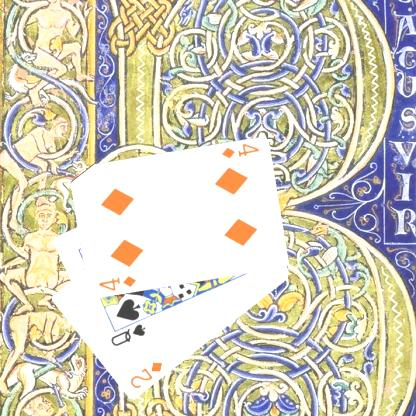2D: (127, 360, 164, 390)
4D: (219, 141, 260, 160), (96, 274, 138, 292)
QS: (108, 321, 147, 348)
